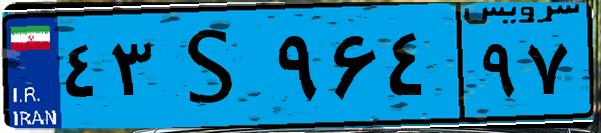3: (110, 28, 158, 98)
4: (385, 28, 445, 110), (57, 26, 110, 100)
6: (330, 28, 385, 110)
7: (525, 38, 570, 115)
9: (270, 28, 330, 110), (475, 38, 525, 113)
S: (158, 12, 270, 120)
